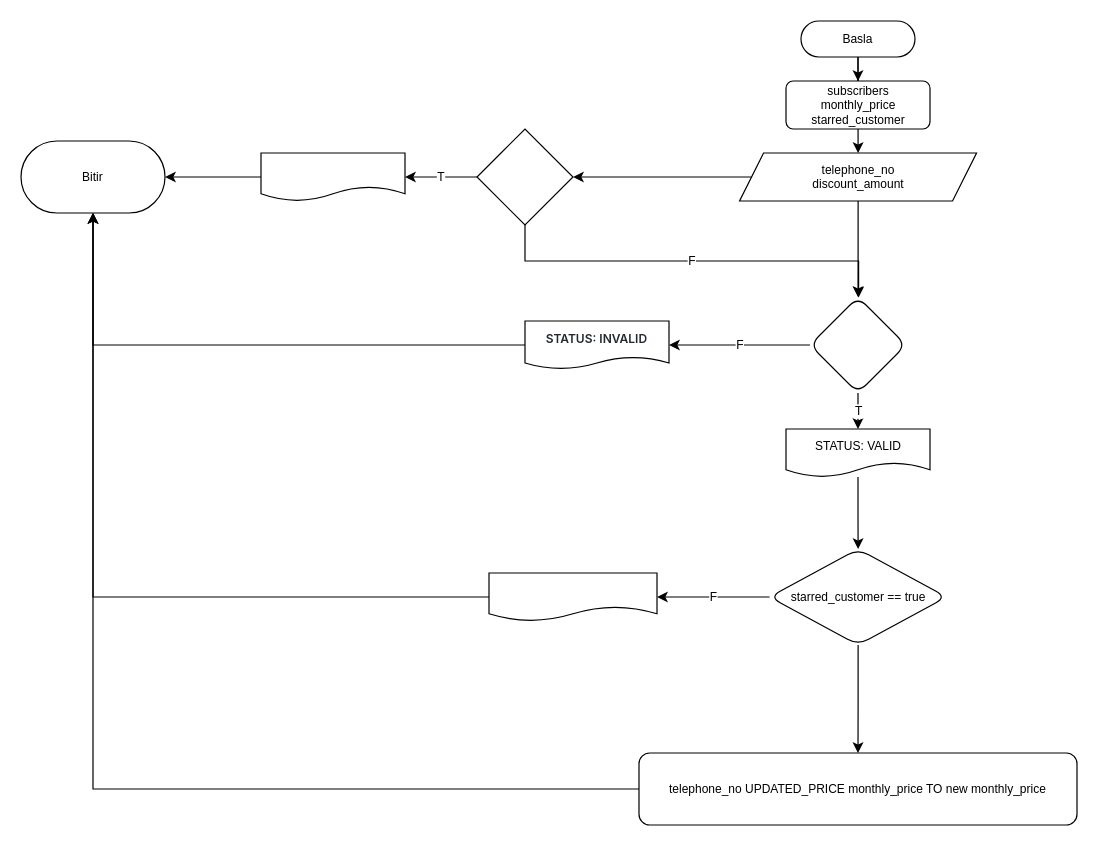
The diagram is 1098 pixels wide and 846 high, and some of its shapes have lost their labels. Each missing label, with the box of its shape:
DISCOUNT: NOT POSSIBLE: (488, 572, 657, 621)
format uygun degil ise: (476, 128, 573, 225)
STATUS: ERROR: (260, 152, 405, 201)
telephone_no: (809, 296, 906, 393)
